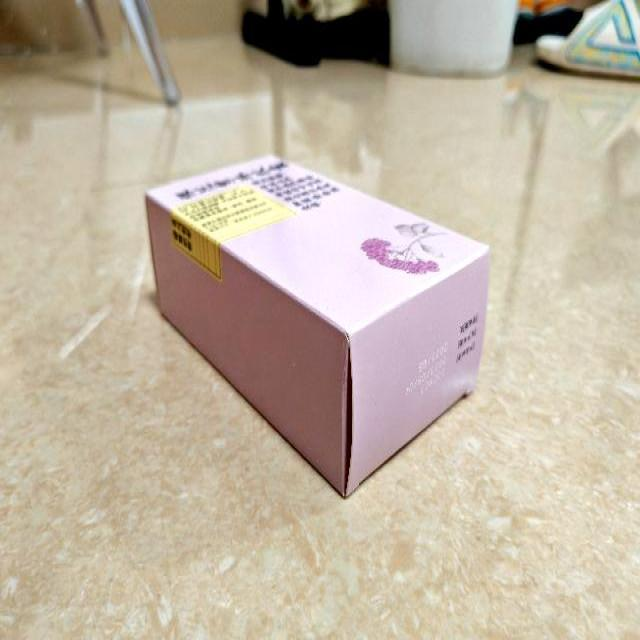box: (144, 152, 490, 499)
